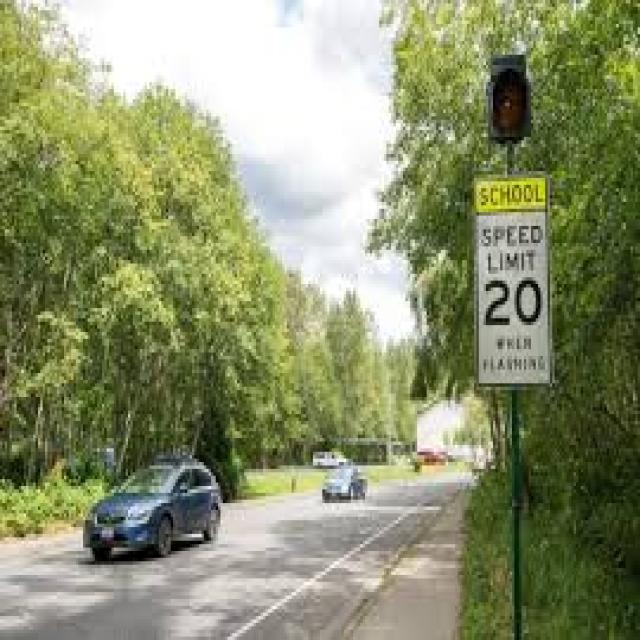speedLimit20: (479, 212, 547, 346)
